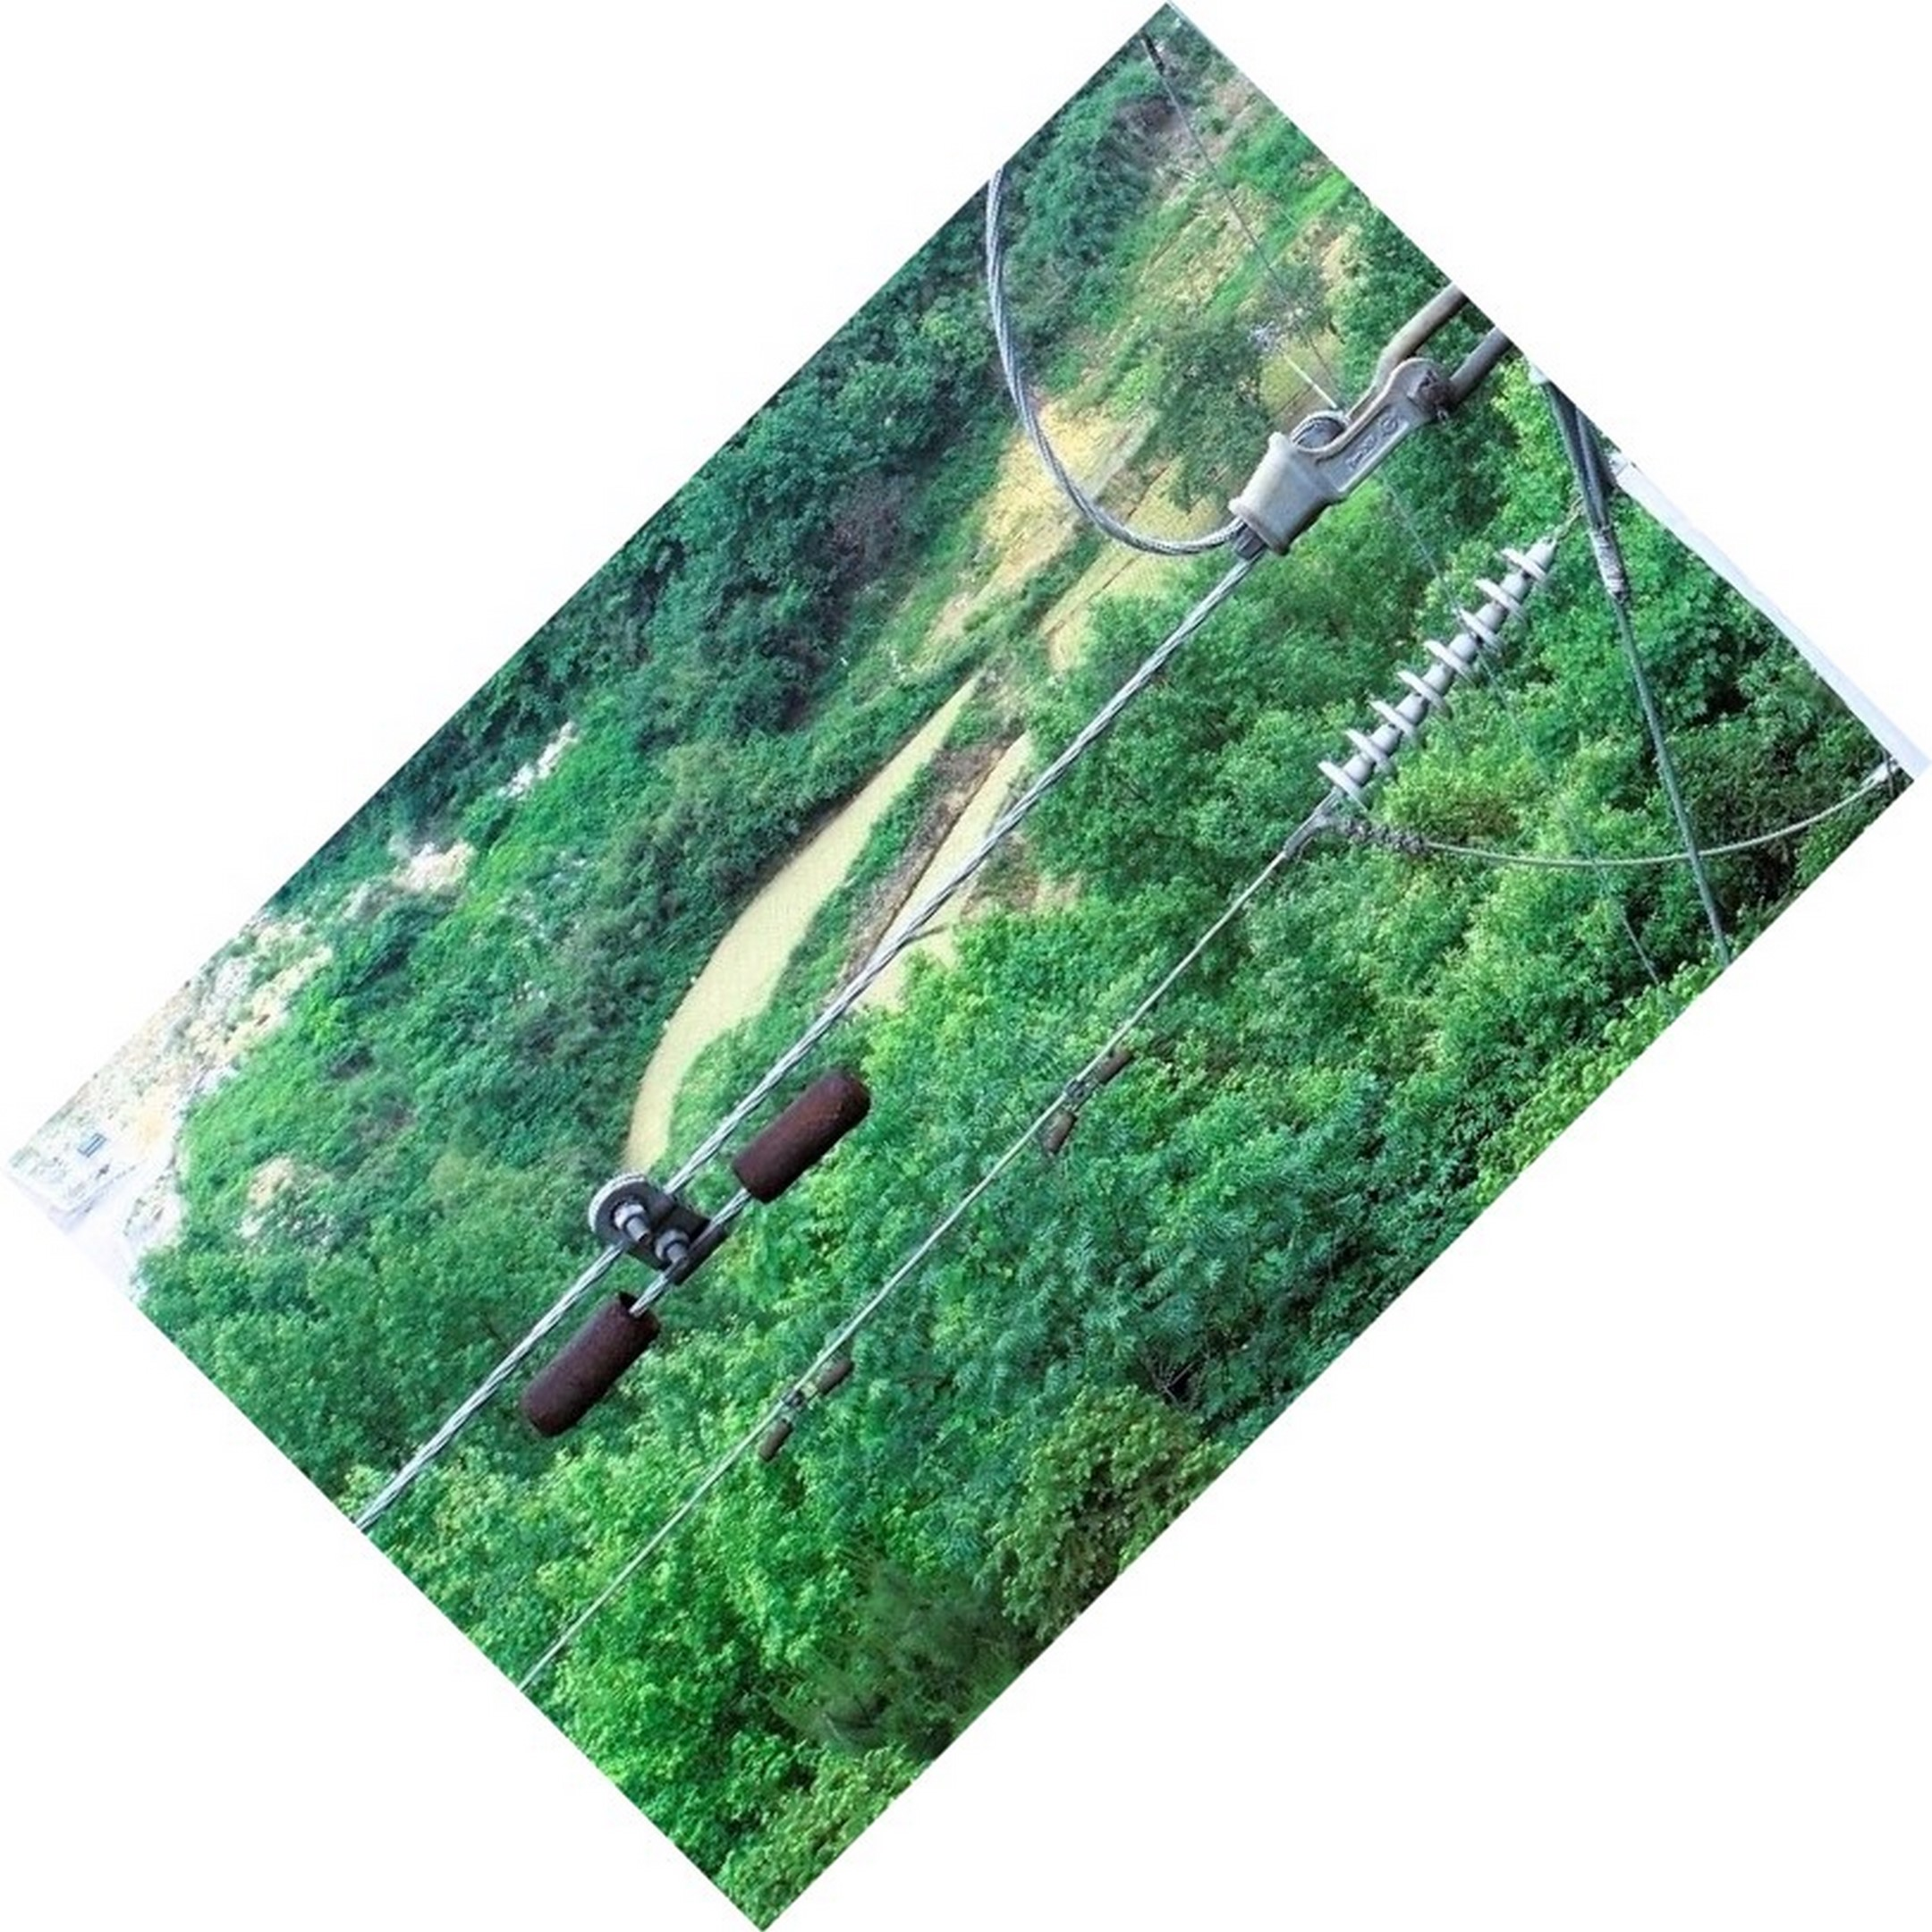Shockproof hammer: (515, 1049, 874, 1451)
